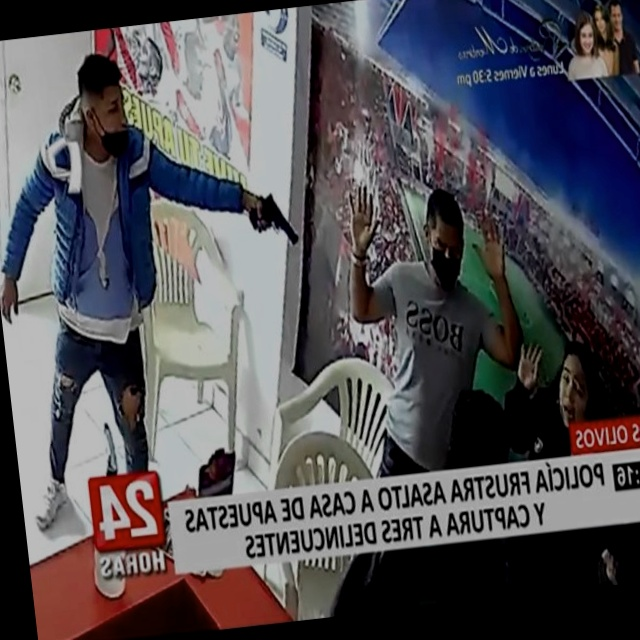gun: (237, 168, 308, 270)
